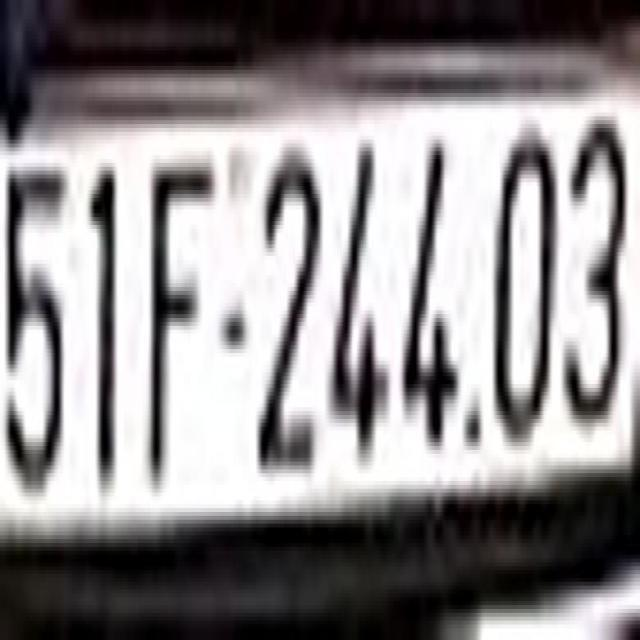0: (492, 93, 558, 466)
1: (81, 124, 132, 500)
2: (254, 128, 321, 496)
3: (561, 85, 626, 450)
4: (332, 116, 388, 508), (402, 101, 455, 485)
5: (4, 140, 65, 512)
F: (146, 120, 213, 493)
